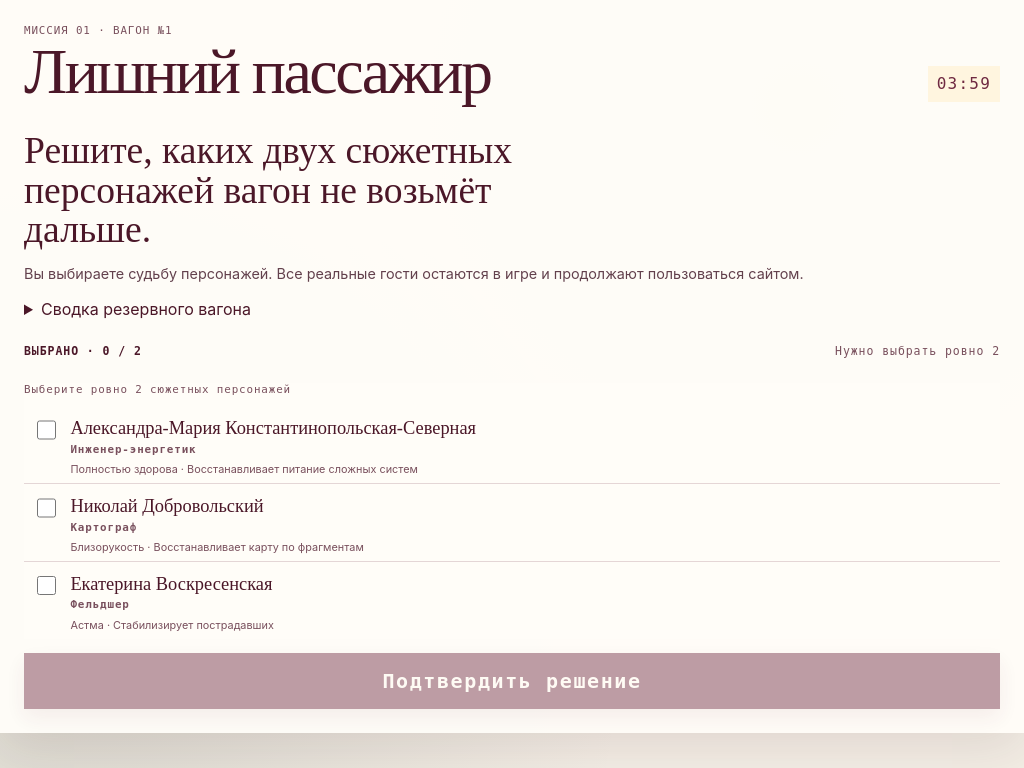
Test: MissionOnePlayer › shows the selected guests and exact quota before its only confirmation sends the existing payload
The image size is (1024, 768).
Later steps or results of the test are not shown.
Check: the number of buttons "Подтвердить решение" is 1, box [24, 653, 1000, 709]
Check: the button "Подтвердить решение" is disabled, box [24, 653, 1000, 709]
Click the checkbox labelled "Александра-Мария": (46, 430) [37, 420, 56, 440]
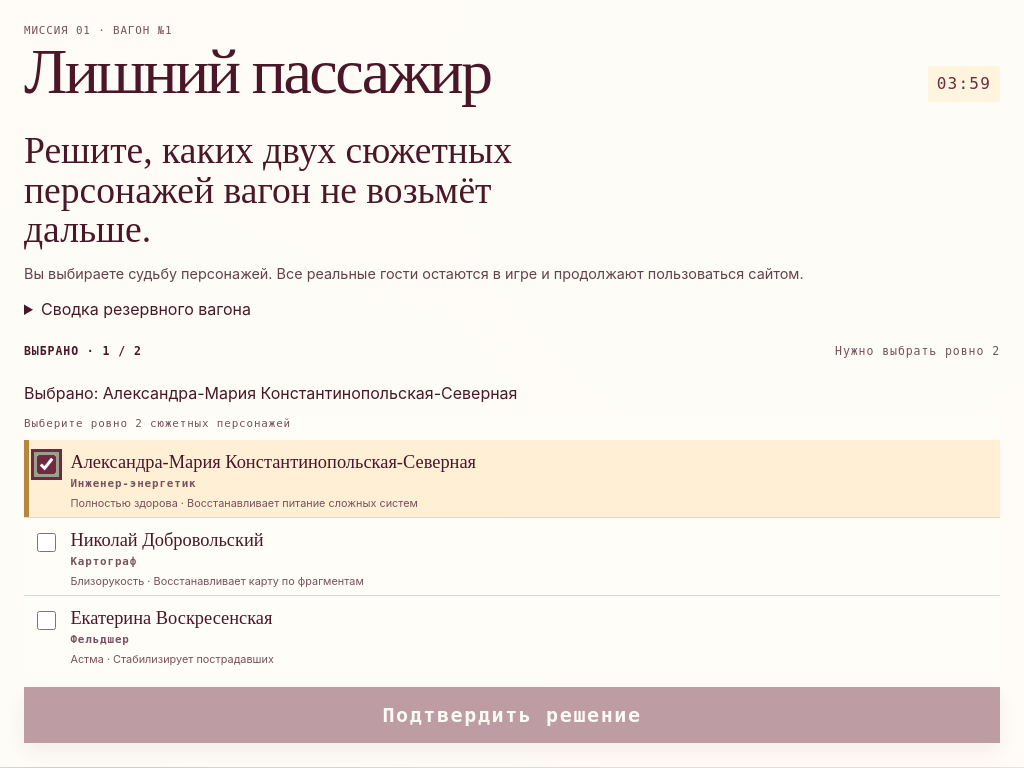
Check: the button "Подтвердить решение" is disabled, box [24, 688, 1000, 744]
Click the checkbox labelled "Николай Добровольский": (46, 542) [37, 533, 56, 552]
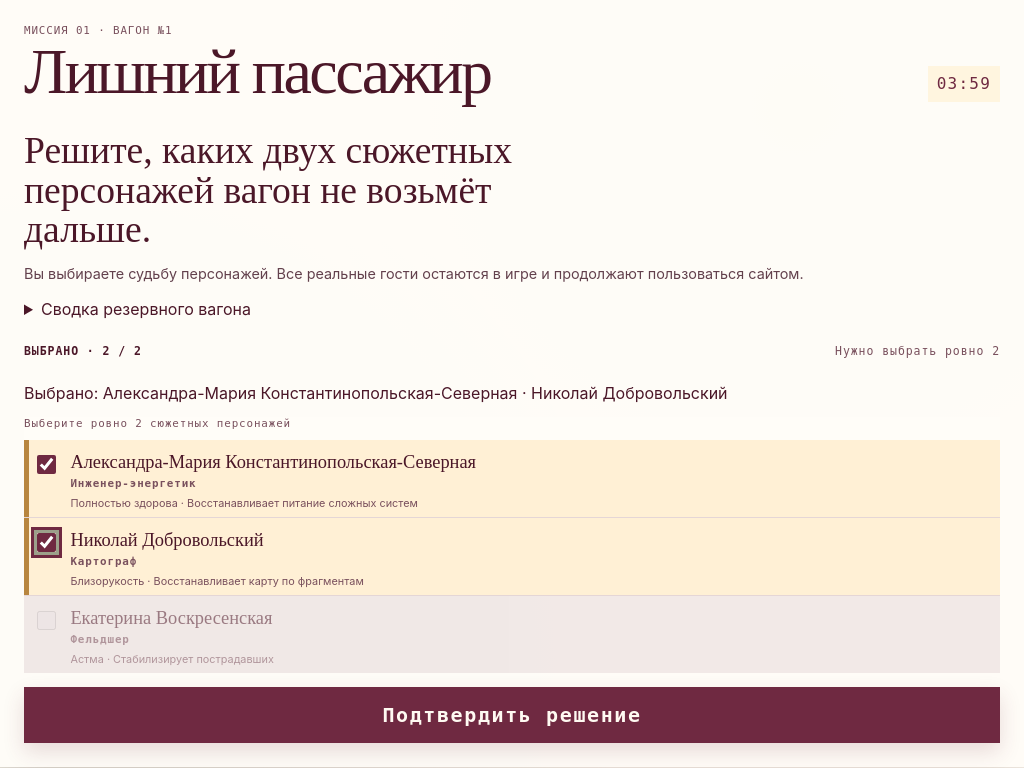
Check: the button "Подтвердить решение" is enabled, box [24, 688, 1000, 744]
Check: the text "ВЫБРАНО · 2 / 2" is shown, box [24, 344, 142, 358]
